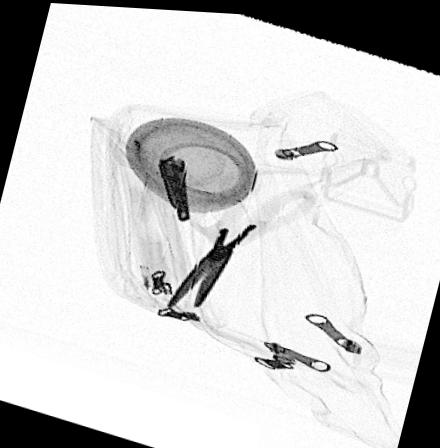Scissors: (163, 167, 317, 308)
